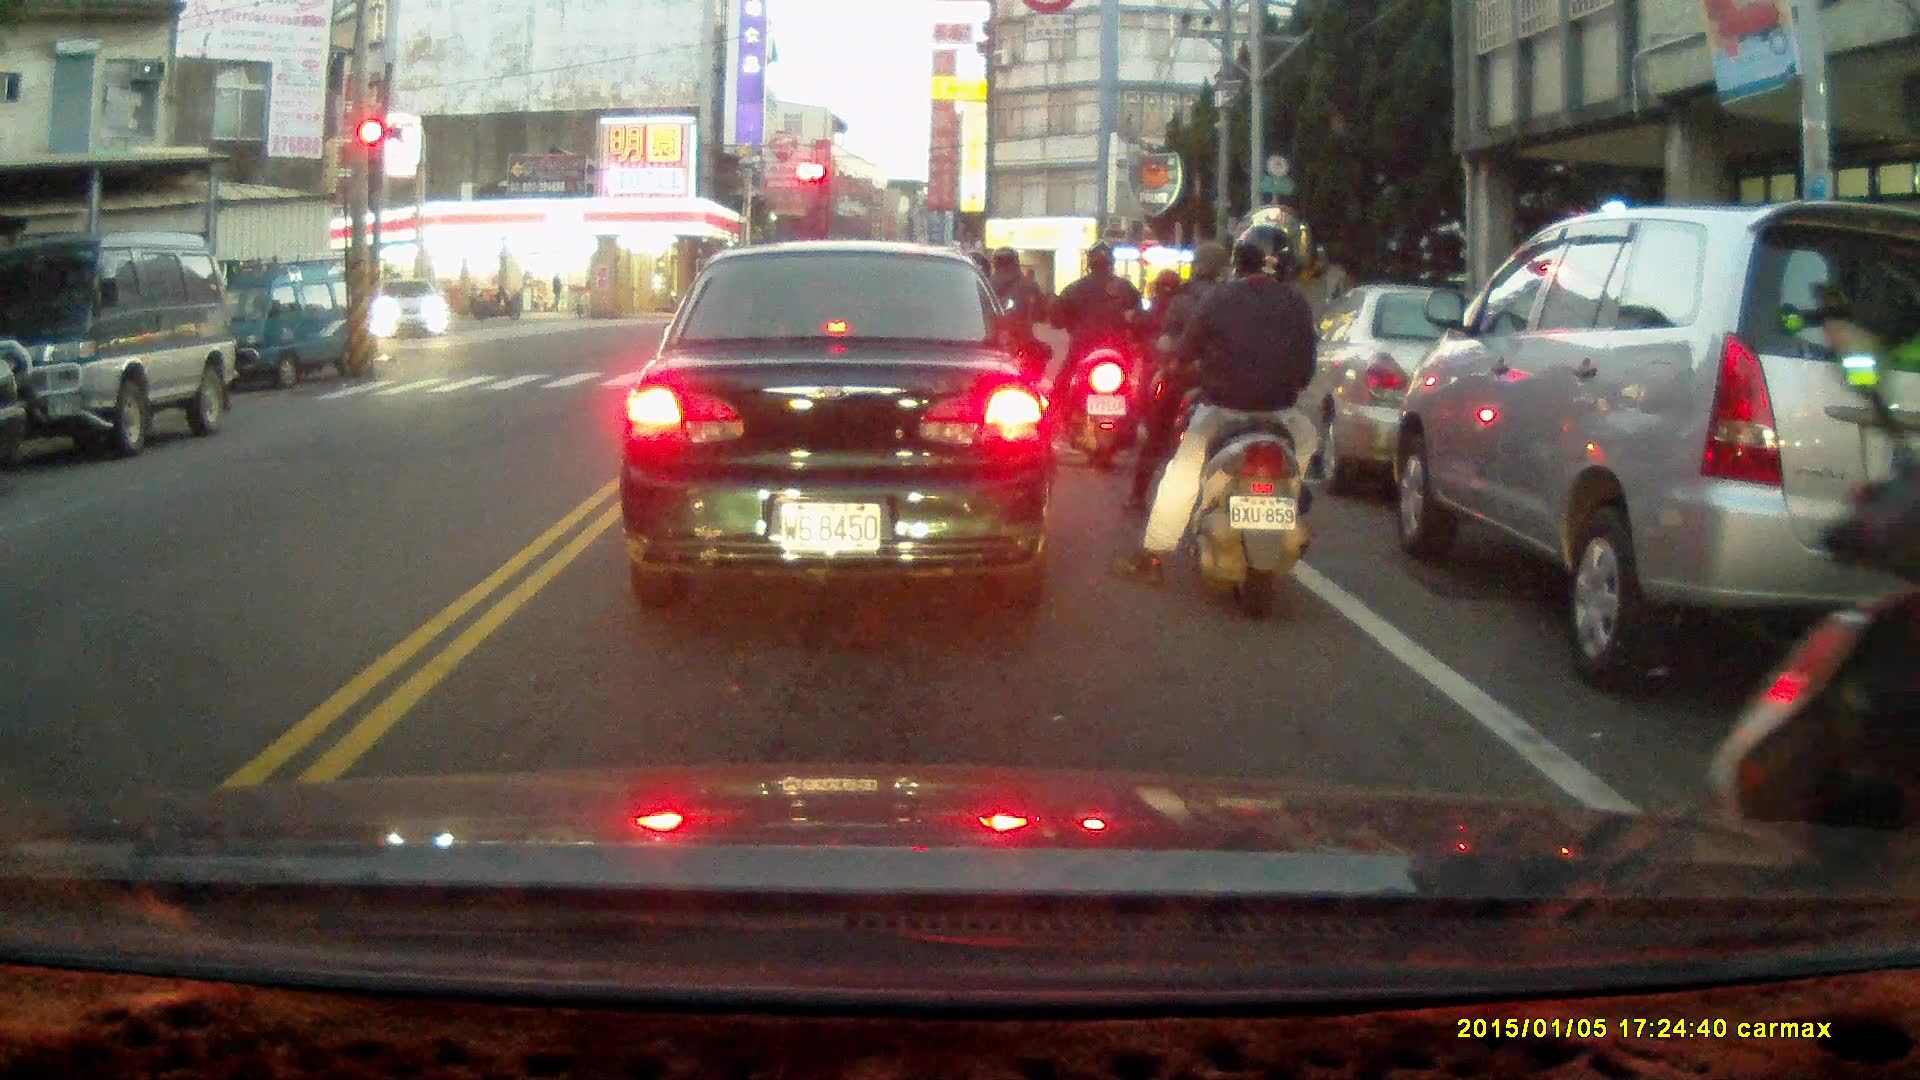pedestrian: (546, 270, 566, 311)
rider: (1718, 308, 1920, 875), (1116, 226, 1318, 615), (1122, 238, 1259, 542), (1048, 244, 1142, 469), (967, 244, 1052, 436), (1132, 267, 1203, 449)
vehicle: (1391, 195, 1920, 685), (617, 243, 1061, 606), (1281, 284, 1603, 497), (1, 234, 239, 458), (194, 255, 381, 393), (372, 277, 451, 343)
